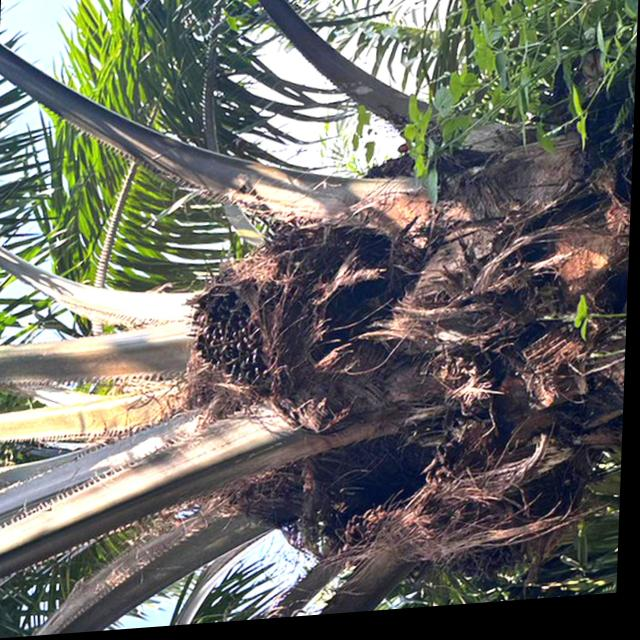ripe: (180, 274, 295, 403)
